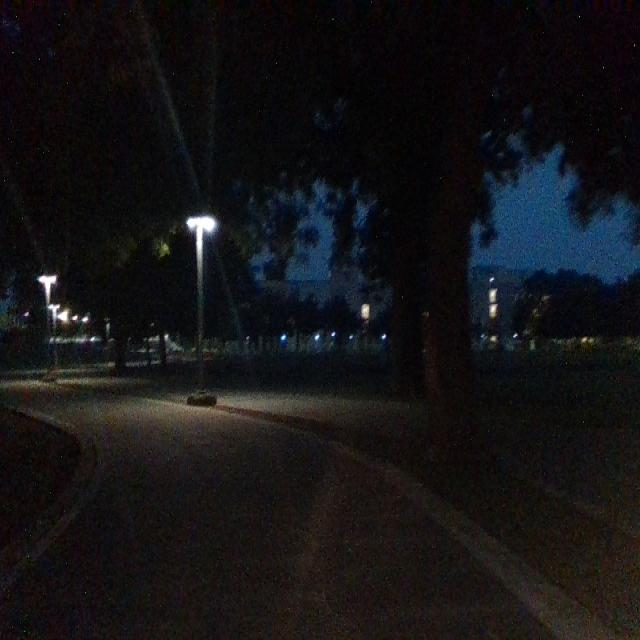lane: (3, 398, 563, 640)
